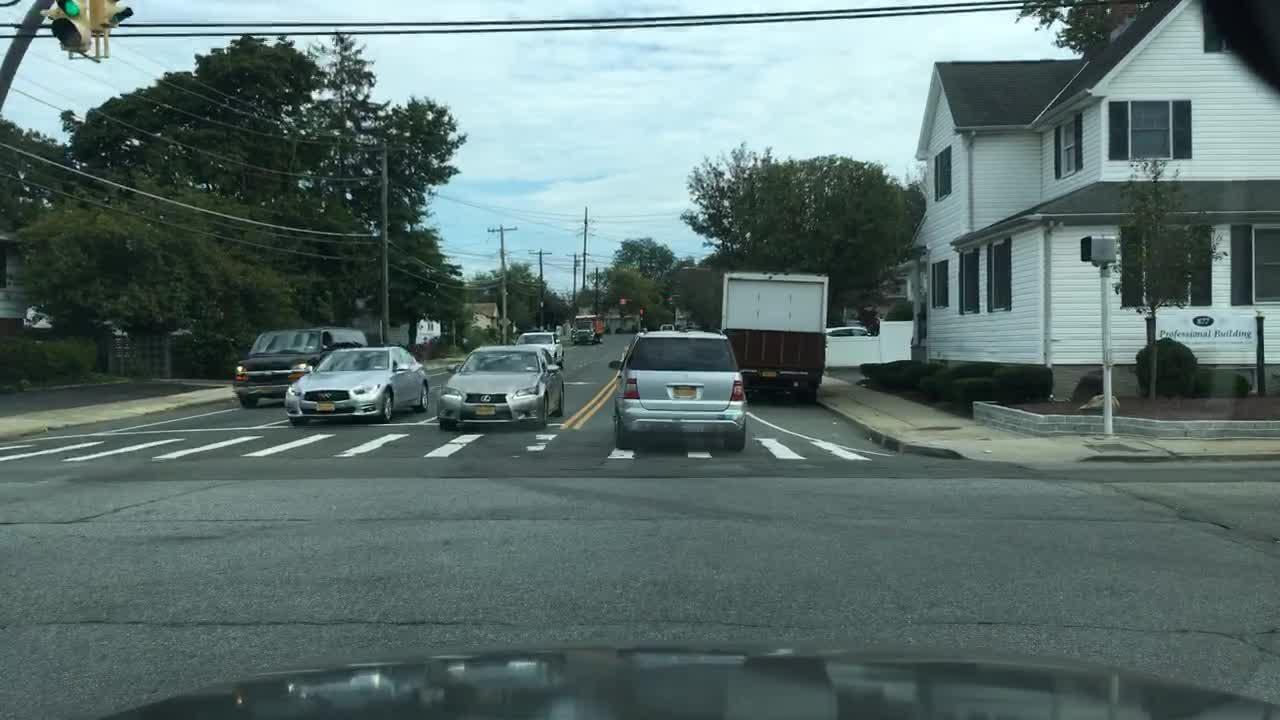lexus: (477, 392, 495, 406)
